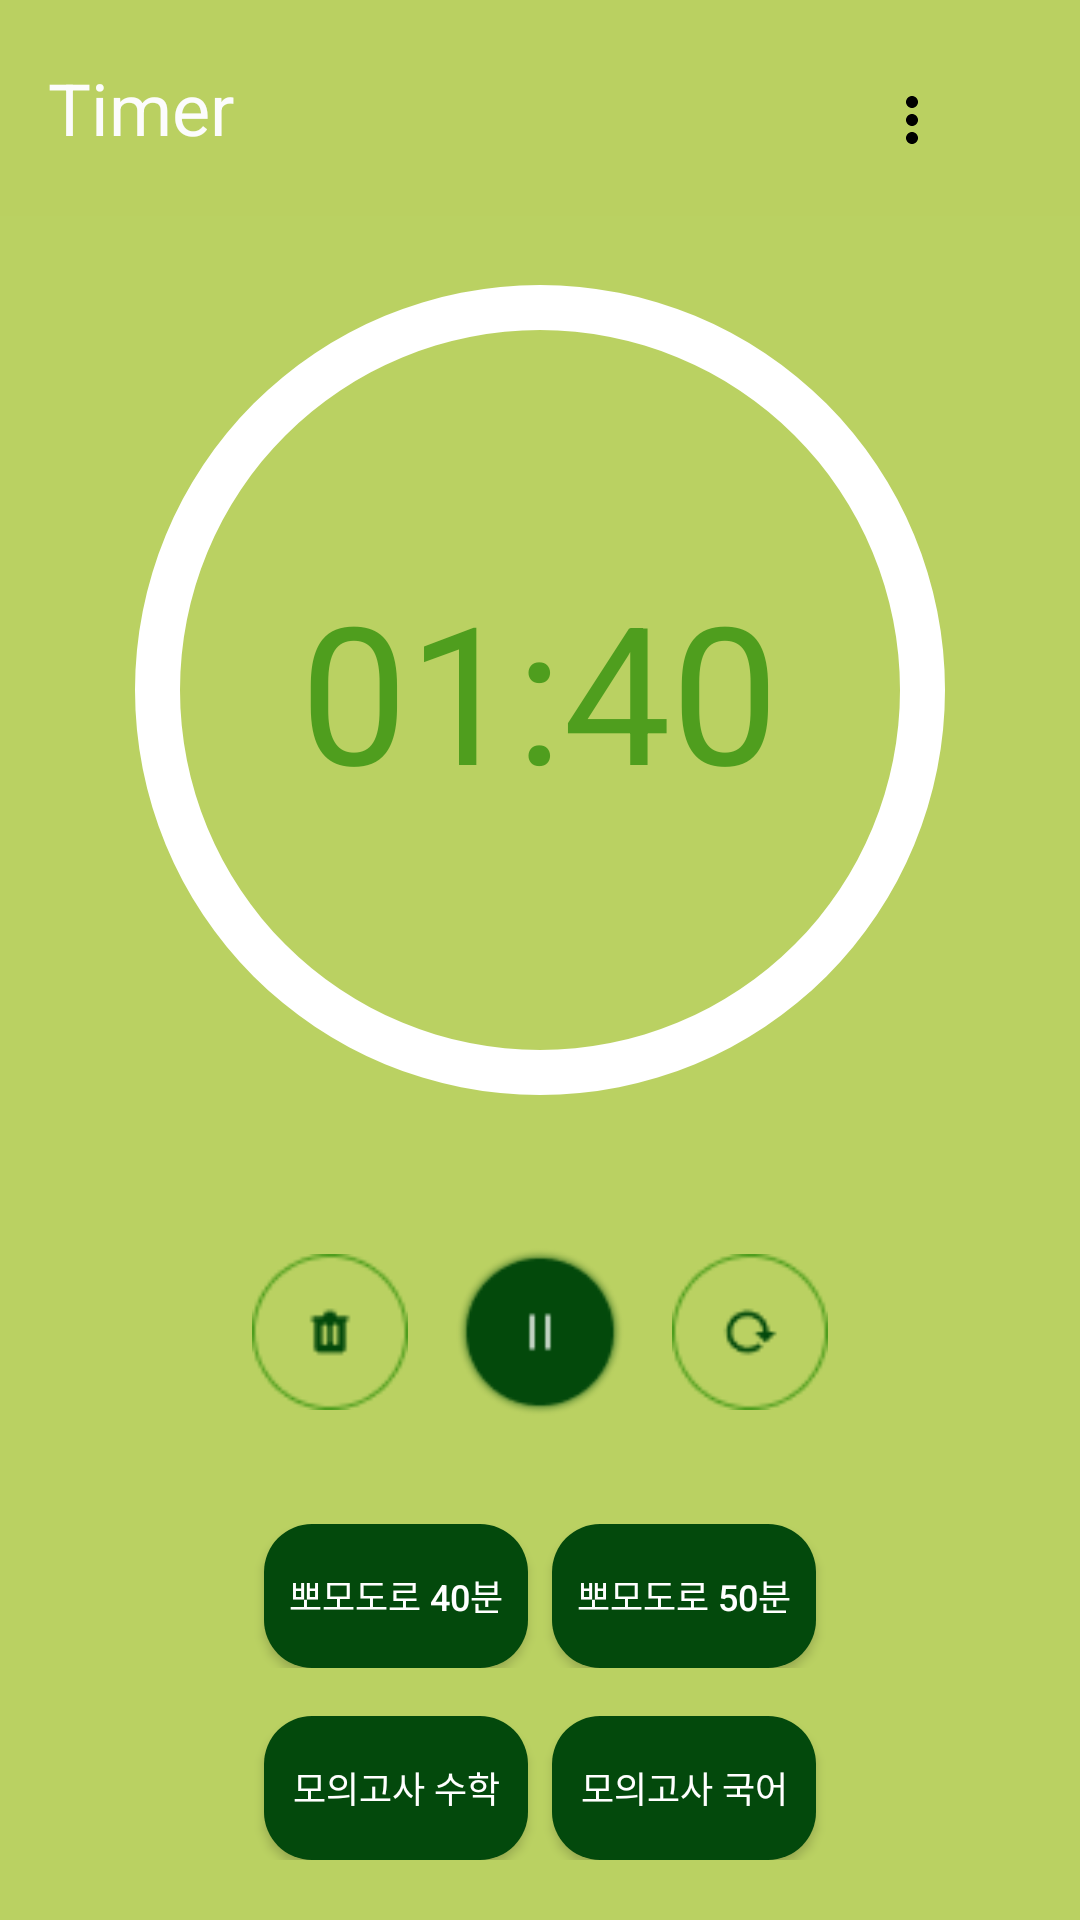

Locate icon controls on the screen. Image size 1080 × 1920, boxes as (x1, y1, x2, y2).
delete: (252, 1254, 408, 1410)
pause: (461, 1253, 619, 1411)
reload: (672, 1254, 828, 1410)
